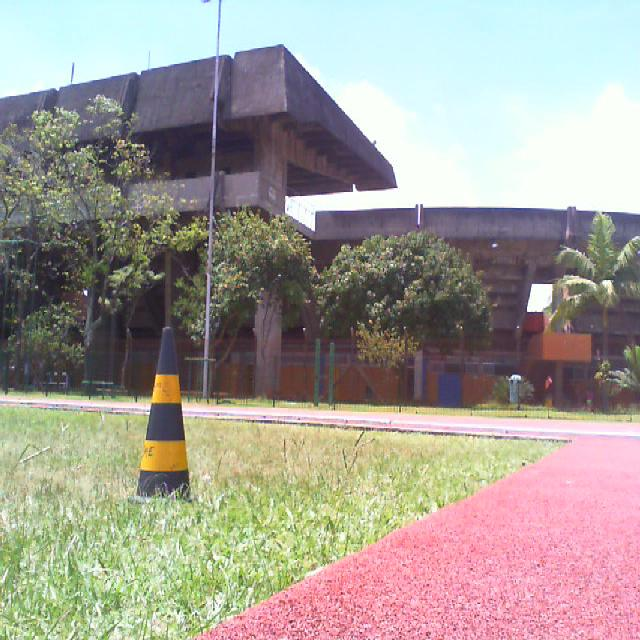cone: (128, 327, 195, 505)
